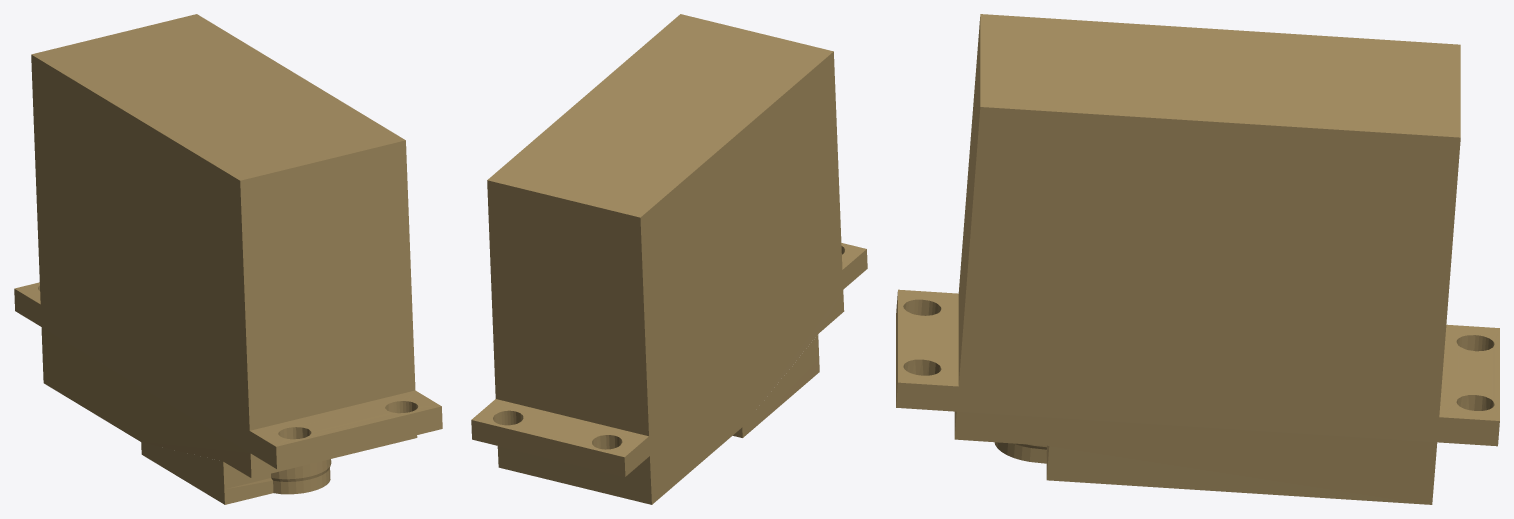
File: Texture.249.dae.balanced.glb
3 renders of one model, left to right at view 1: azimuth 30°, elevation 25°; view 2: azimuth 150°, elevation 25°; view 3: azimuth 270°, elevation 25°, orthographic. The views are drawn at different scales.
Bounding box in the file's own units: 0.2829 × 0.5644 × 0.7761.
